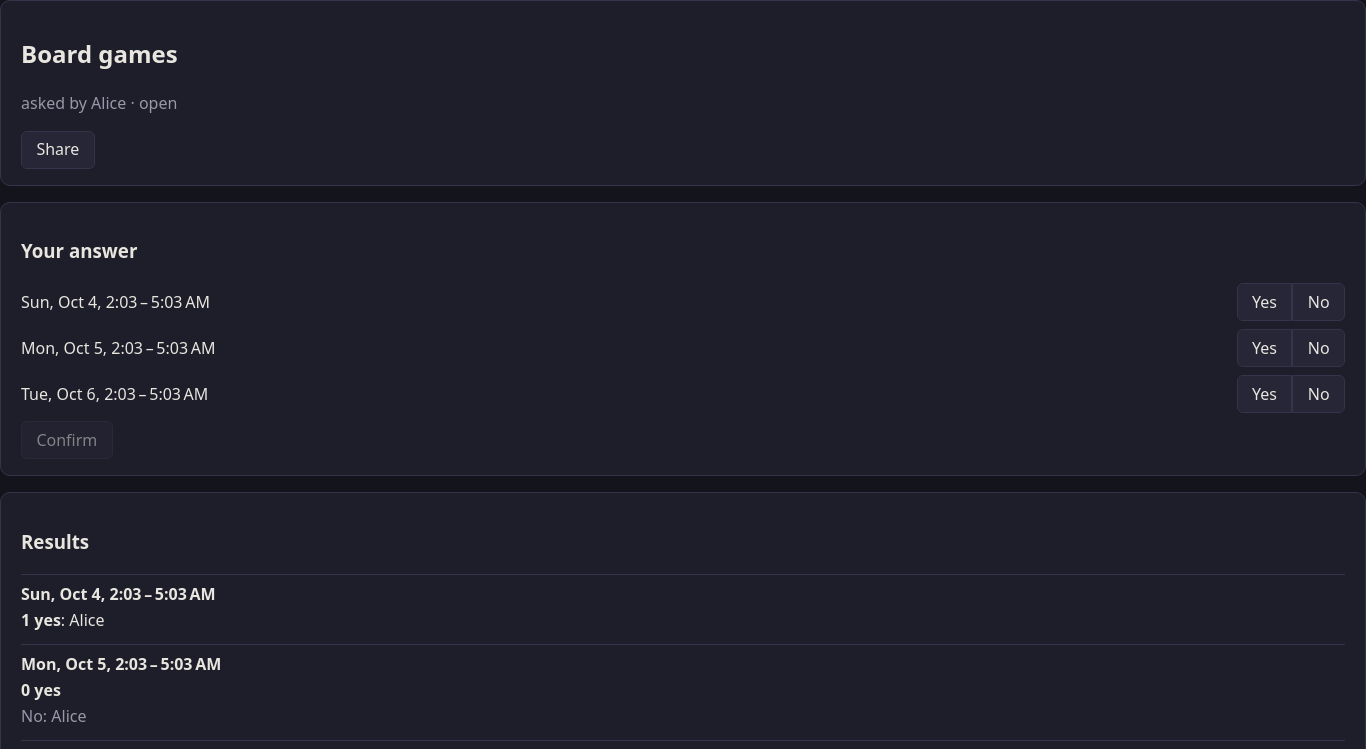
Test case: PollPage › keeps Confirm disabled until every row is set
Expected: the button "Confirm" is disabled, x1=21 y1=421 x2=113 y2=459
Click the 1st button "Yes" at [1264, 302], box x1=1237 y1=283 x2=1292 y2=321
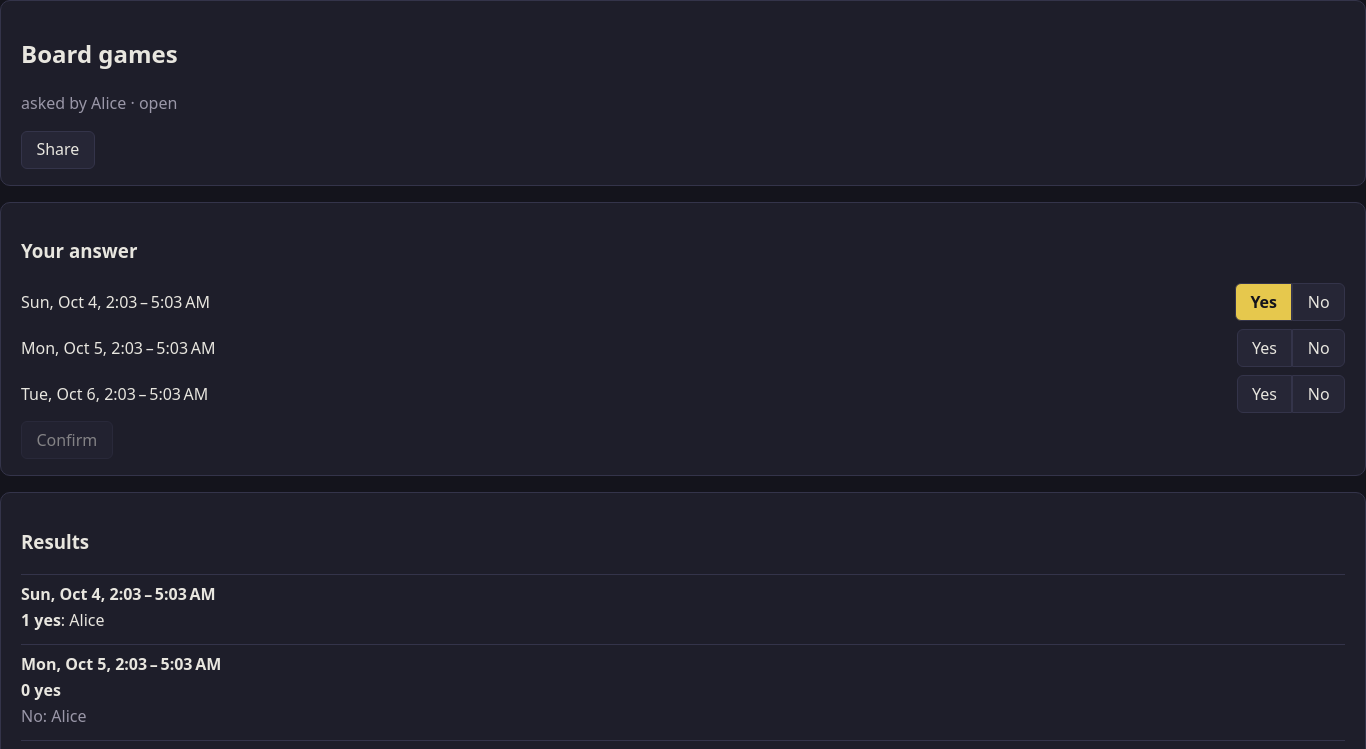
Click the 2nd button "No" at [1319, 348], box x1=1292 y1=329 x2=1345 y2=367
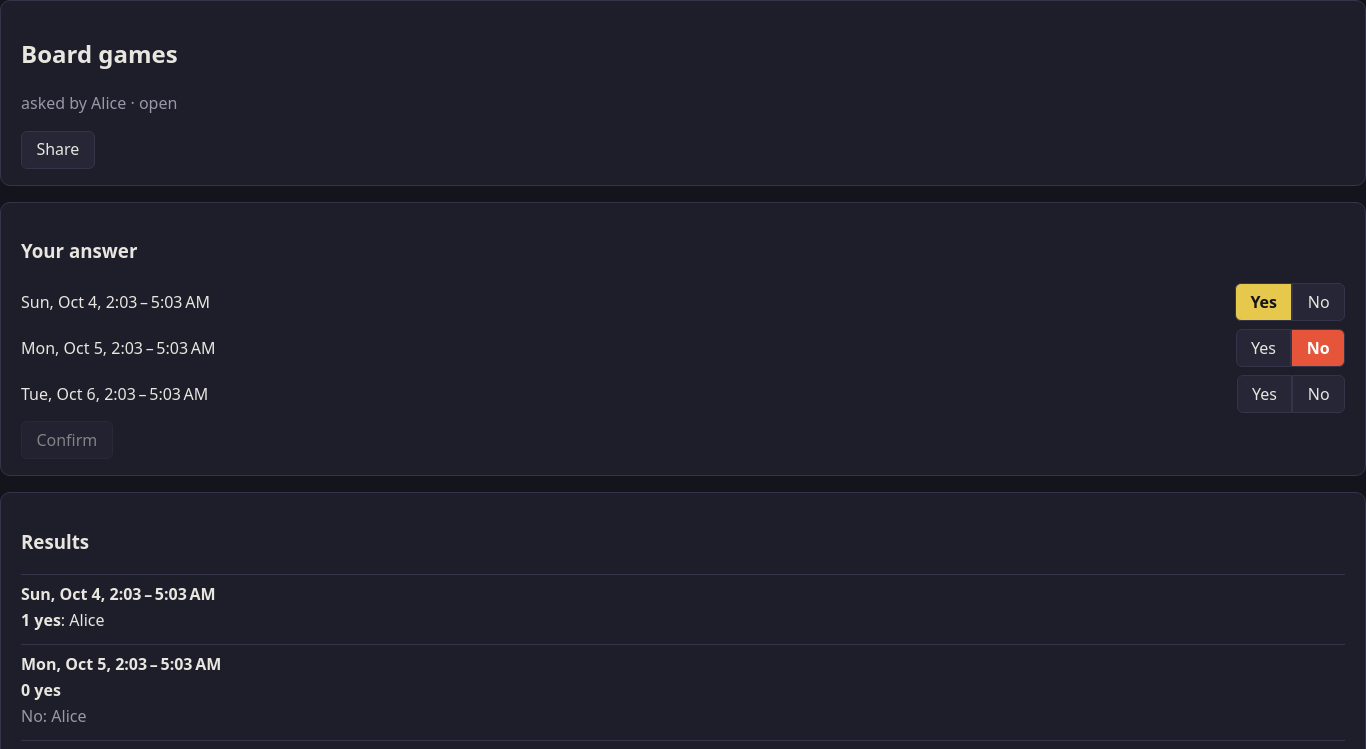
Expected: the button "Confirm" is disabled, x1=21 y1=421 x2=113 y2=459
Click the 3rd button "Yes" at [1264, 394], box x1=1237 y1=375 x2=1292 y2=413
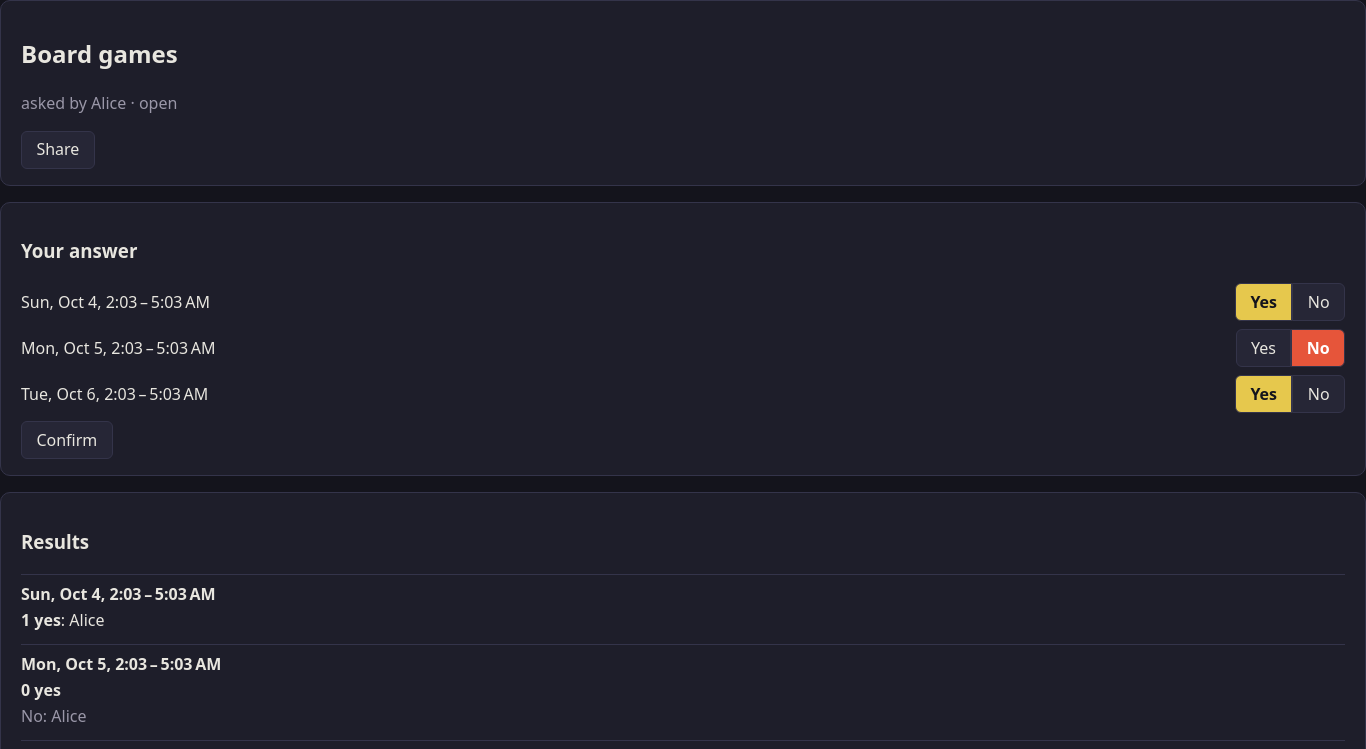
Result: the button "Confirm" is enabled at x1=21 y1=421 x2=113 y2=459
